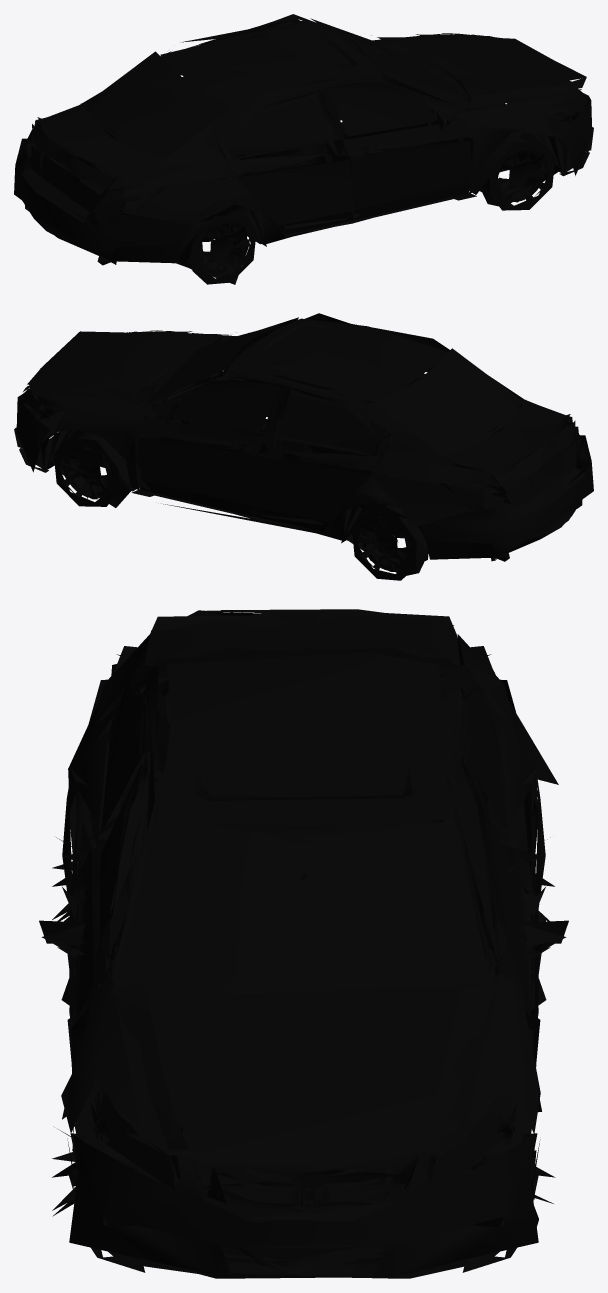
File: v_accord_lod1.glb
The picture shows the model from 3 angles, top to bottom: view 1: azimuth 30°, elevation 25°; view 2: azimuth 150°, elevation 25°; view 3: azimuth 270°, elevation 25°; orthographic projection. The views are drawn at different scales.
Parts seen in each view (by area): view 1: v_accord_lod1; view 2: v_accord_lod1; view 3: v_accord_lod1.
Part boxes in pixels (bbox=[...]): v_accord_lod1: bbox=[14, 14, 593, 284]; v_accord_lod1: bbox=[14, 313, 593, 580]; v_accord_lod1: bbox=[39, 609, 568, 1278].
Bounding box in the file's own units: 4.92 × 1.49 × 2.15.
1 material, 1 textured.
